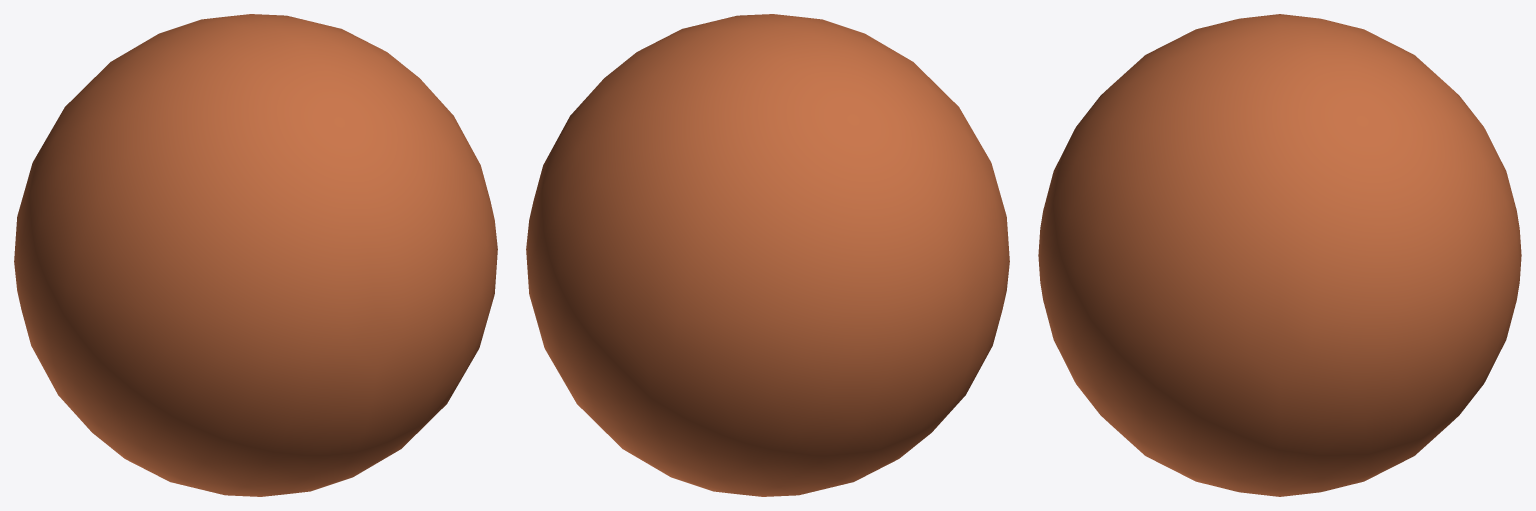
Rendered from Gulicka_Animation.fbx.
3 views of the same model, side by side, from view 1: azimuth 30°, elevation 25°; view 2: azimuth 150°, elevation 25°; view 3: azimuth 270°, elevation 25° (orthographic).
Parts seen in each view (by area): view 1: Gulicka; view 2: Gulicka; view 3: Gulicka.
Part boxes in pixels (x1,y1,x2,y2): Gulicka: (14, 14, 497, 496); Gulicka: (526, 14, 1009, 496); Gulicka: (1038, 14, 1521, 496).
Size of the model in its own units: 20 by 20 by 20.
